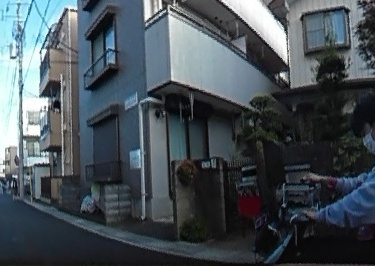person: (9, 175, 17, 198)
